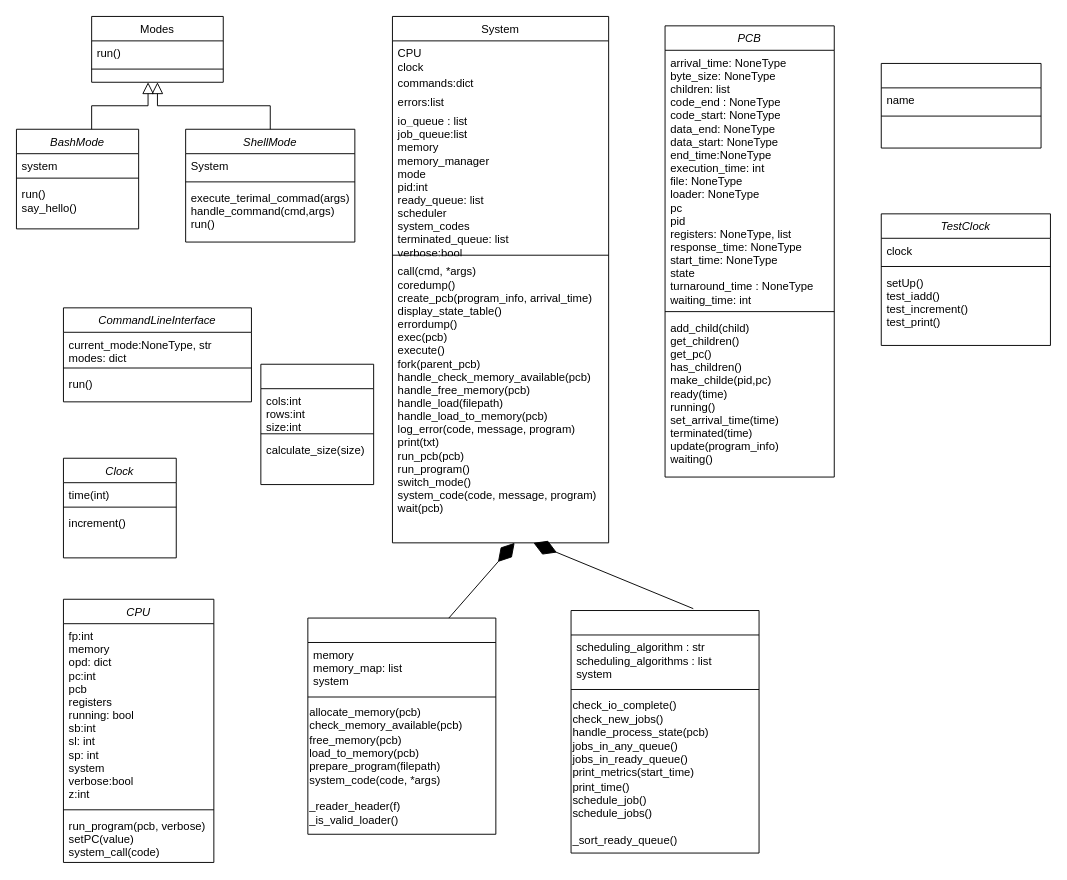
The diagram is 1067 pixels wide and 880 high, and some of its shapes have lost their labels. The shapes that lost their labels are listed below. From the top down, each one's box as (x1, y1, x2, y2) in pixels, then its label:
(880, 63, 1041, 148): PCBState
(260, 363, 374, 485): Memory
(307, 617, 496, 834): MemoryManager
(570, 610, 759, 853): Scheduler
